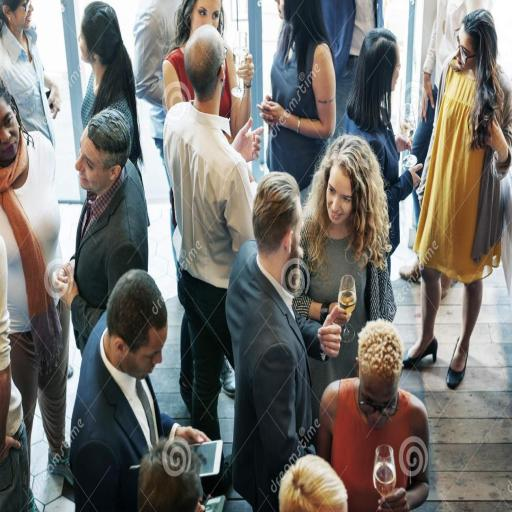person: (164, 25, 262, 439), (404, 10, 511, 388), (226, 173, 341, 511), (72, 270, 209, 511), (0, 82, 72, 484), (55, 109, 148, 352), (318, 320, 428, 511), (294, 135, 396, 333), (346, 28, 422, 271), (258, 0, 336, 202), (135, 0, 223, 163), (412, 0, 492, 164), (79, 2, 142, 174), (0, 236, 34, 511), (0, 0, 60, 146), (322, 0, 384, 135), (134, 0, 181, 164), (163, 0, 224, 108), (138, 438, 204, 511), (279, 454, 347, 511)
